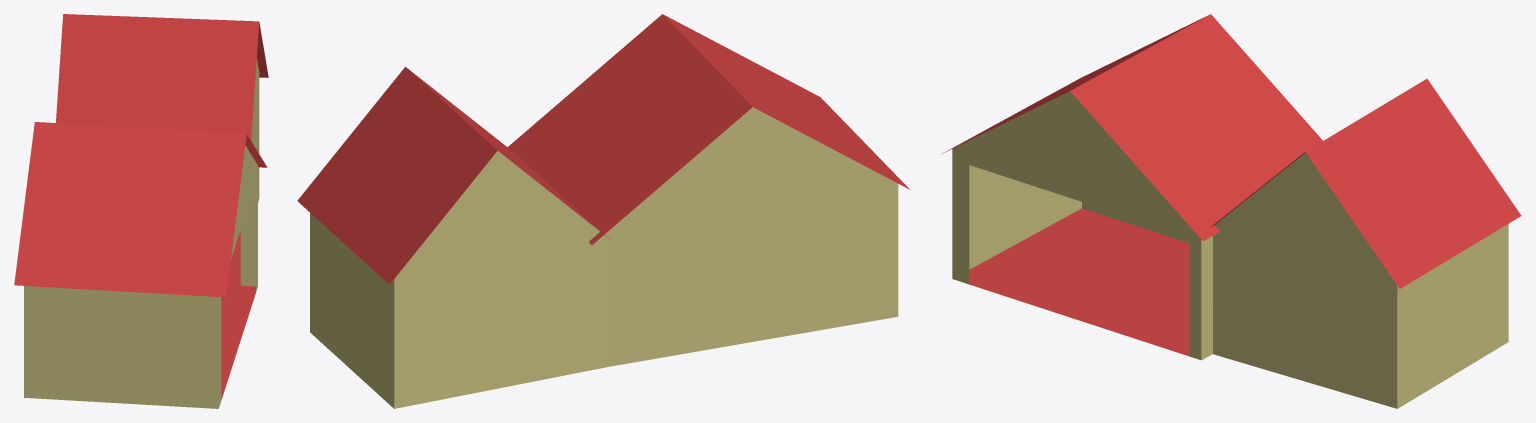
The picture shows the model from 3 angles, left to right: view 1: azimuth 30°, elevation 25°; view 2: azimuth 150°, elevation 25°; view 3: azimuth 270°, elevation 25°; orthographic projection. The views are drawn at different scales.
Bounding box in the file's own units: 26.85 × 31.2 × 13.88.
